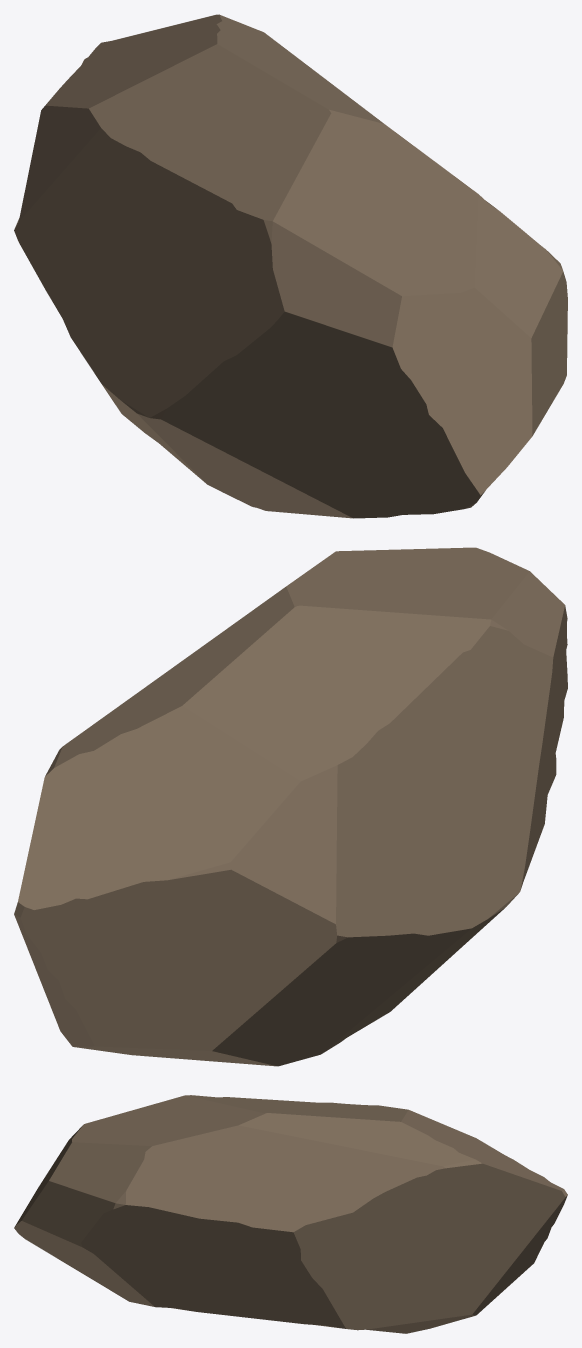
File: rock_1.fbx
3 views of the same model, one above another, from view 1: azimuth 30°, elevation 25°; view 2: azimuth 150°, elevation 25°; view 3: azimuth 270°, elevation 25° (orthographic). The views are drawn at different scales.
Visible parts, largest first — view 1: rock_1; view 2: rock_1; view 3: rock_1.
Part boxes in pixels (x1=…): rock_1: x1=14, y1=14, x2=567, y2=518; rock_1: x1=14, y1=547, x2=567, y2=1066; rock_1: x1=14, y1=1095, x2=567, y2=1333.
Size of the model in its own units: 1.72 by 1.74 by 3.93.
